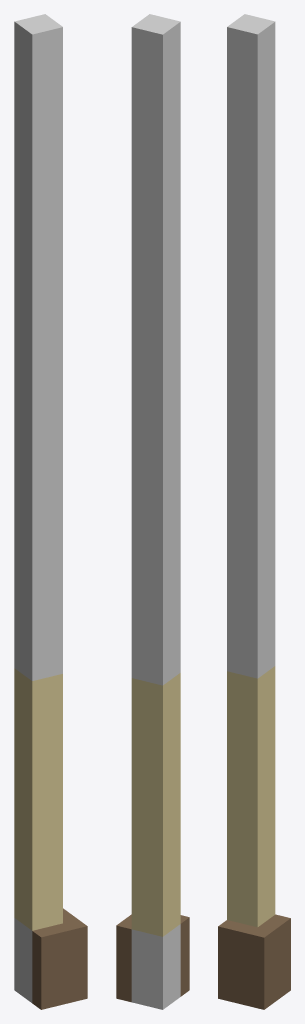
File: Mesh_WallBaseboard2Colors_G6.fbx
The picture shows the model from 3 angles, left to right: view 1: azimuth 30°, elevation 25°; view 2: azimuth 150°, elevation 25°; view 3: azimuth 330°, elevation 25°; orthographic projection.
Visible parts, largest first — view 1: Mesh_WallBaseboard2Colors_G6; view 2: Mesh_WallBaseboard2Colors_G6; view 3: Mesh_WallBaseboard2Colors_G6.
Boxes of the visible parts, x1,y1,x2,y2 form: Mesh_WallBaseboard2Colors_G6: [14, 14, 87, 1009]; Mesh_WallBaseboard2Colors_G6: [116, 14, 189, 1009]; Mesh_WallBaseboard2Colors_G6: [218, 14, 290, 1009].
Bounding box in the file's own units: 0.15 × 3 × 0.15.
